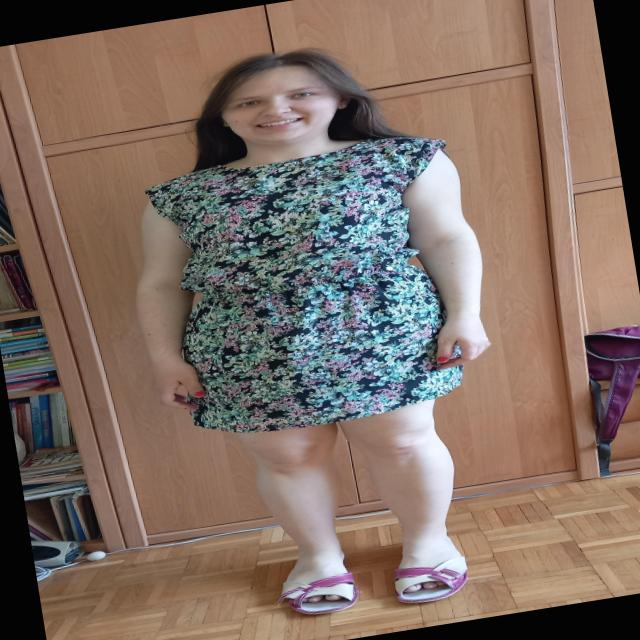dress: (141, 128, 487, 447)
